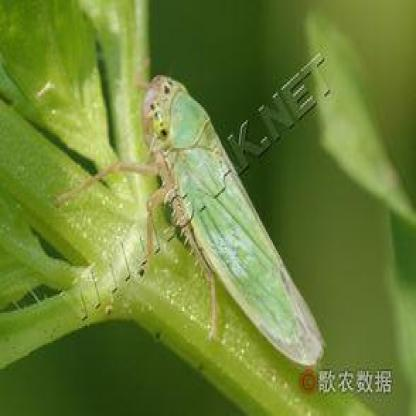Green-Leafhopper: (52, 66, 326, 358)
